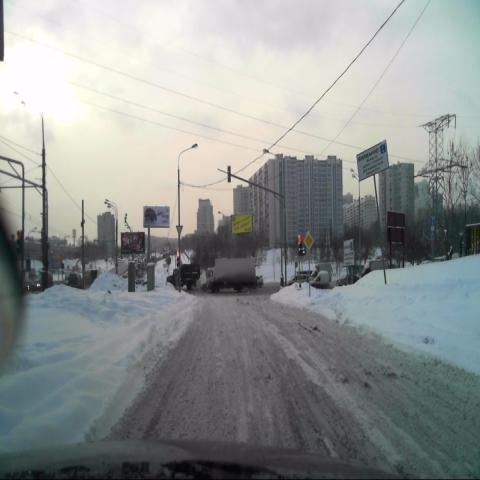2_1: (303, 230, 314, 249)
